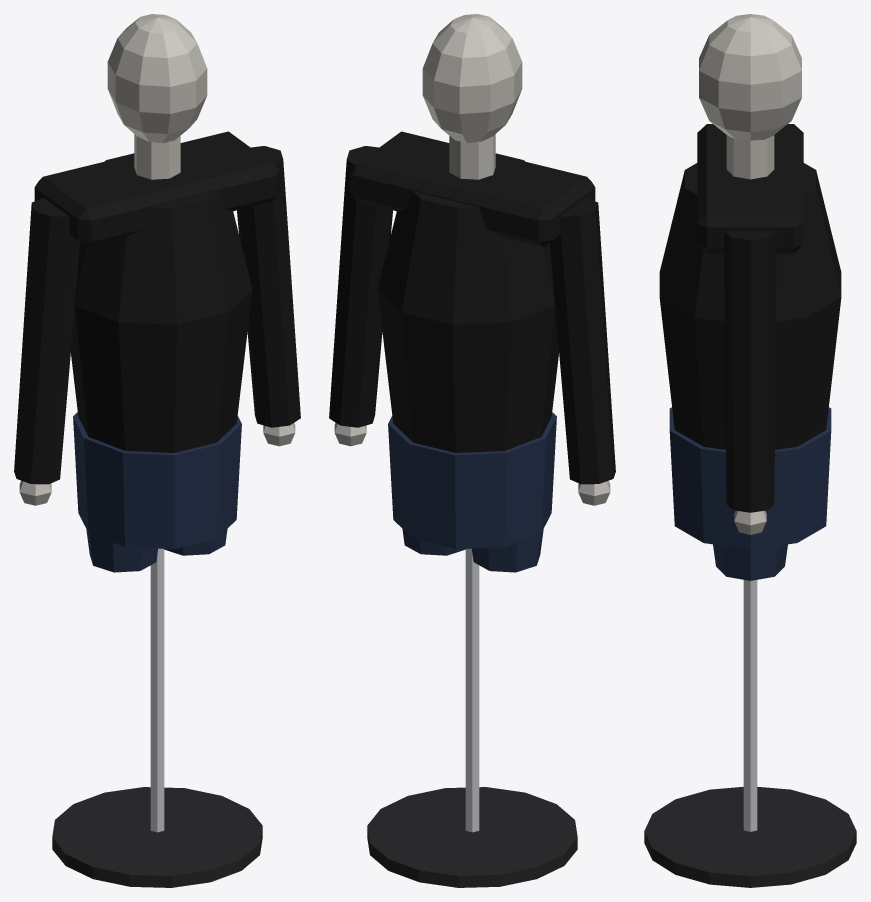
Rendered from mannequin.glb.
3 views of the same model, side by side, from view 1: azimuth 30°, elevation 25°; view 2: azimuth 150°, elevation 25°; view 3: azimuth 270°, elevation 25° (orthographic).
Visible parts, largest first — view 1: mannequin; view 2: mannequin; view 3: mannequin.
Boxes of the visible parts, x1,y1,x2,y2 form: mannequin: (14,14,300,887); mannequin: (329,14,615,887); mannequin: (644,14,856,887).
Bounding box in the file's own units: 0.6137 × 1.72 × 0.4.
